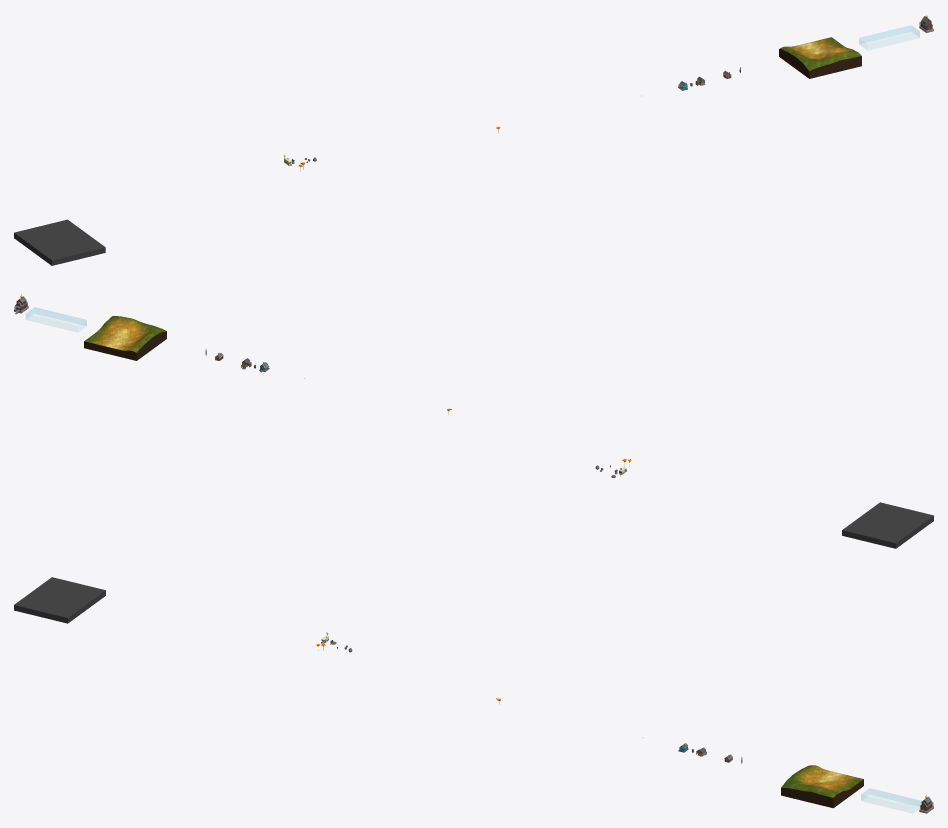
File: Tree_3.FBX
The picture shows the model from 3 angles, top to bottom: view 1: azimuth 30°, elevation 25°; view 2: azimuth 150°, elevation 25°; view 3: azimuth 330°, elevation 25°; orthographic projection.
Parts seen in each view (by area): view 1: object 26, Ground; view 2: object 26, Ground; view 3: object 26, Ground.
Boxes of the visible parts, x1,y1,x2,y2 form: object 26: (14,219,105,265); Ground: (779,37,861,78); object 26: (842,502,933,548); Ground: (84,316,166,360); object 26: (14,577,105,623); Ground: (781,765,863,808).
Bounding box in the file's own units: 73837 × 1791 × 5942.
